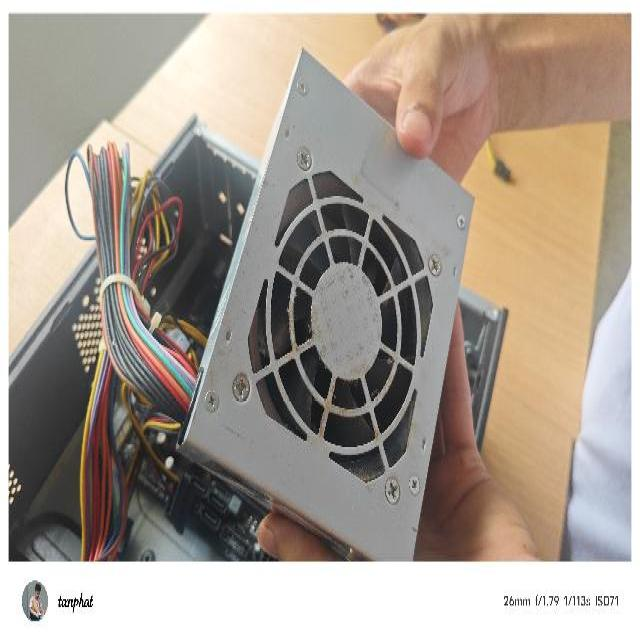PSU: (174, 42, 476, 559)
